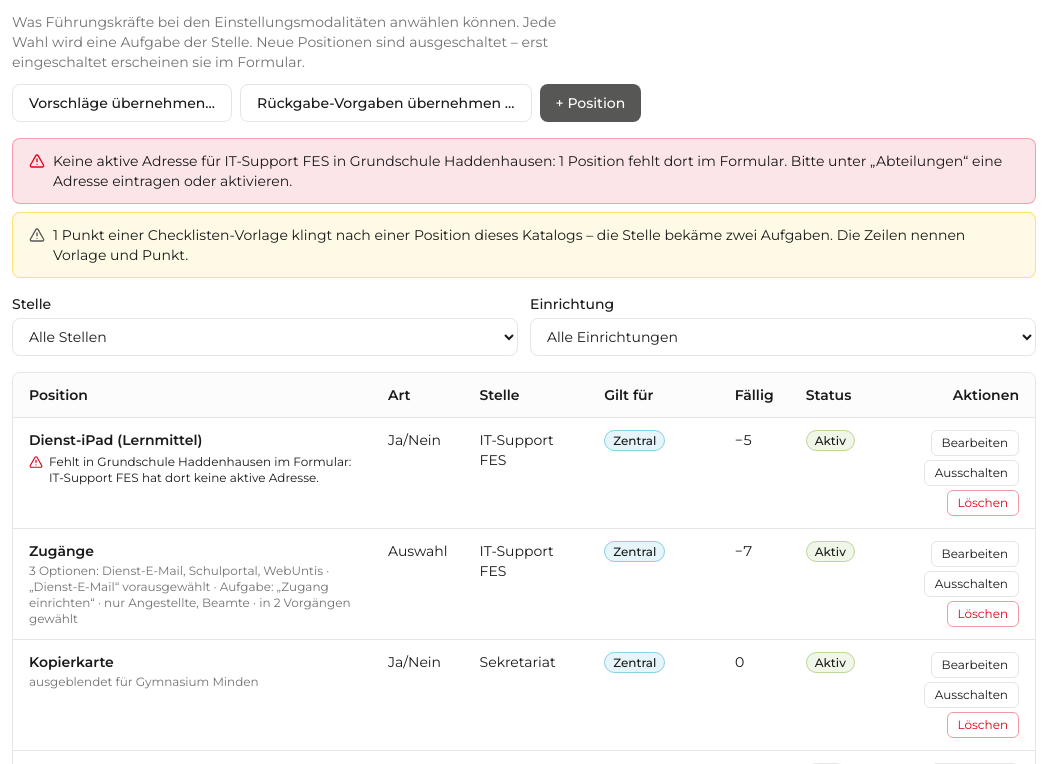
Test: Filter › Stelle: nur deren Positionen, ohne neue Anfrage
The image size is (1048, 764).
Select "IT-Support FES" in the dropdown labelled "Stelle" at {"x": 265, "y": 337}, box top-left (12, 318), bottom-right (518, 356)
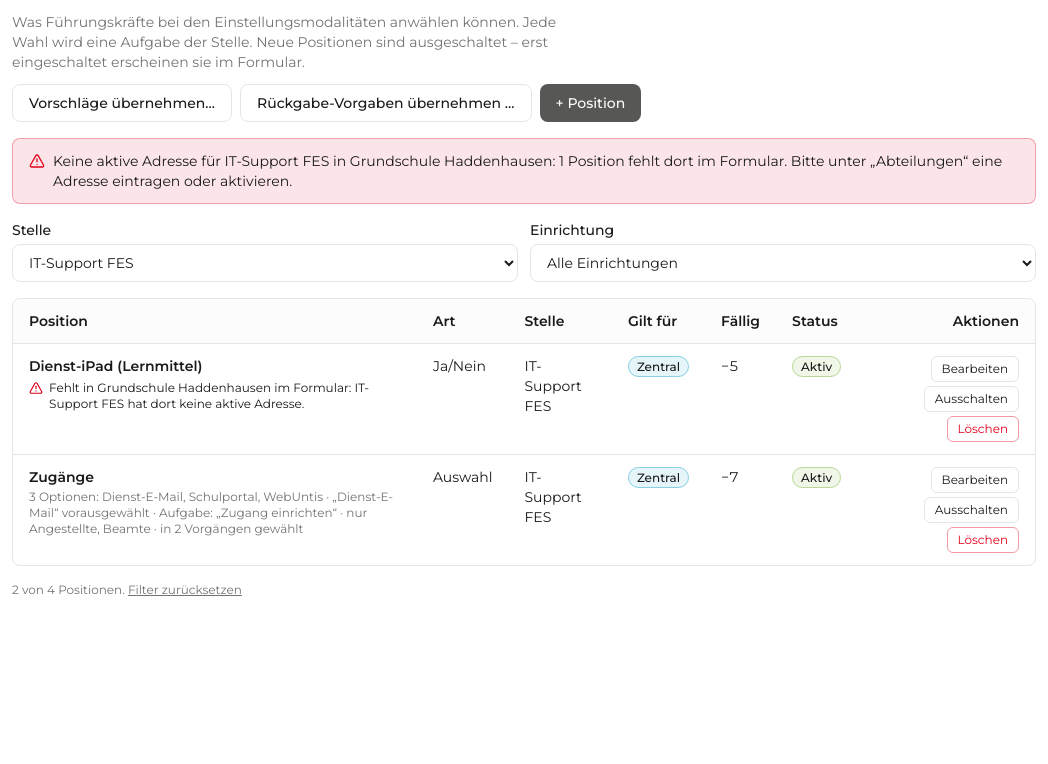
Now the text "2 von 4 Positionen." is shown, box top-left (12, 582), bottom-right (125, 597)
